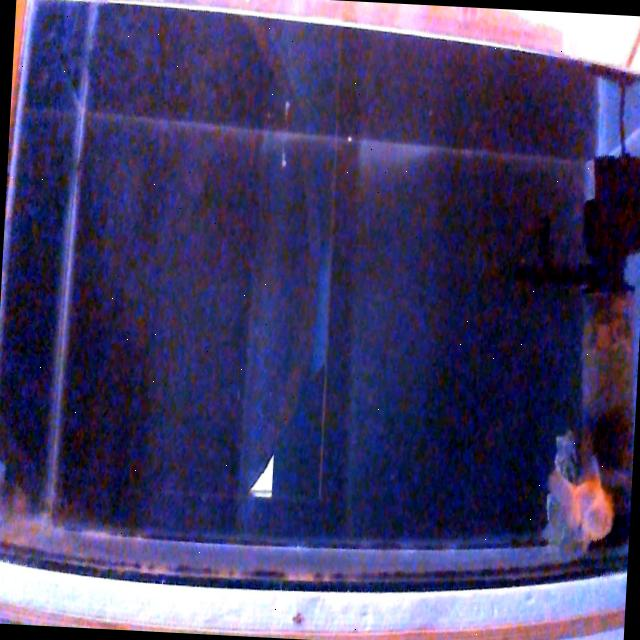fish: (545, 468, 616, 544)
